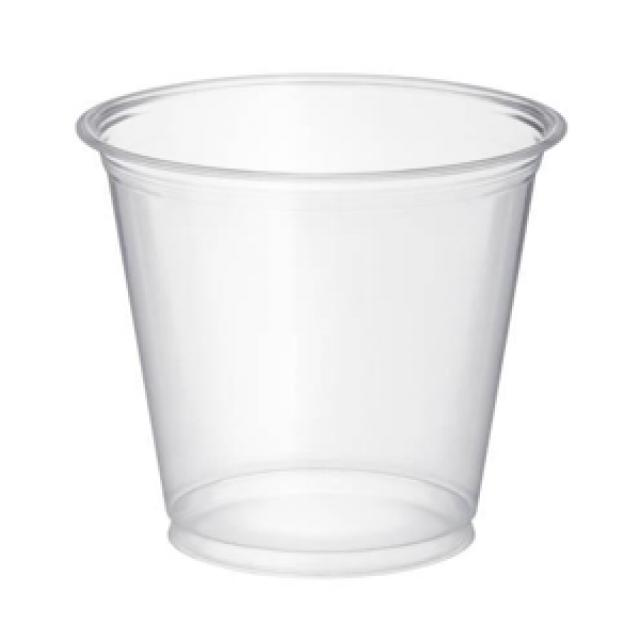plastic cup: (68, 66, 578, 585)
